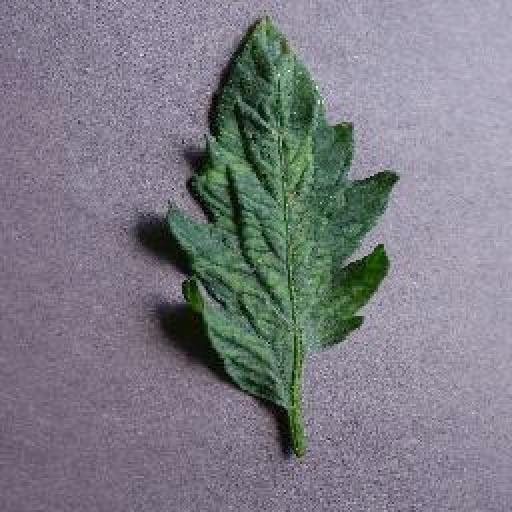Mosaic Virus: (164, 11, 402, 405)
